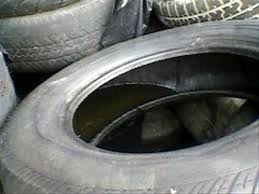tire: (1, 15, 259, 193)
